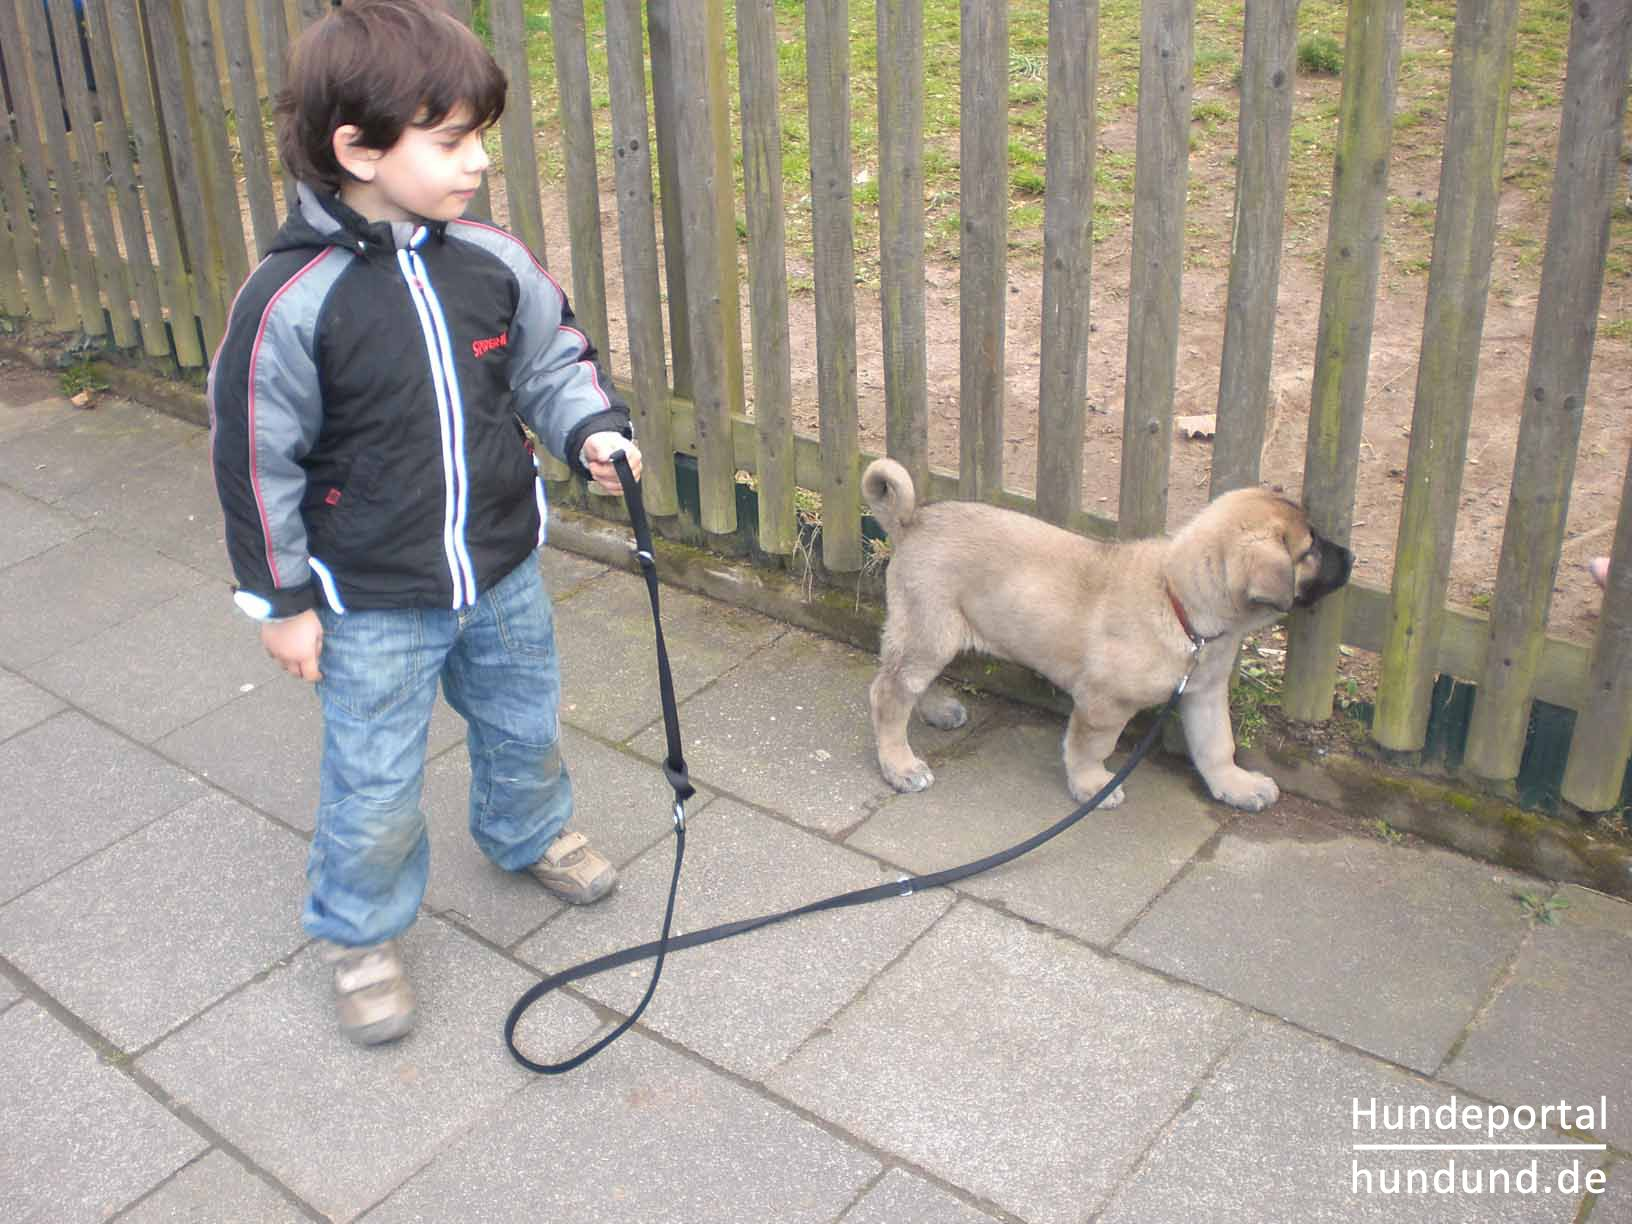human_face: (331, 94, 493, 224)
kangal: (858, 457, 1354, 812)
person: (207, 0, 640, 1049)
